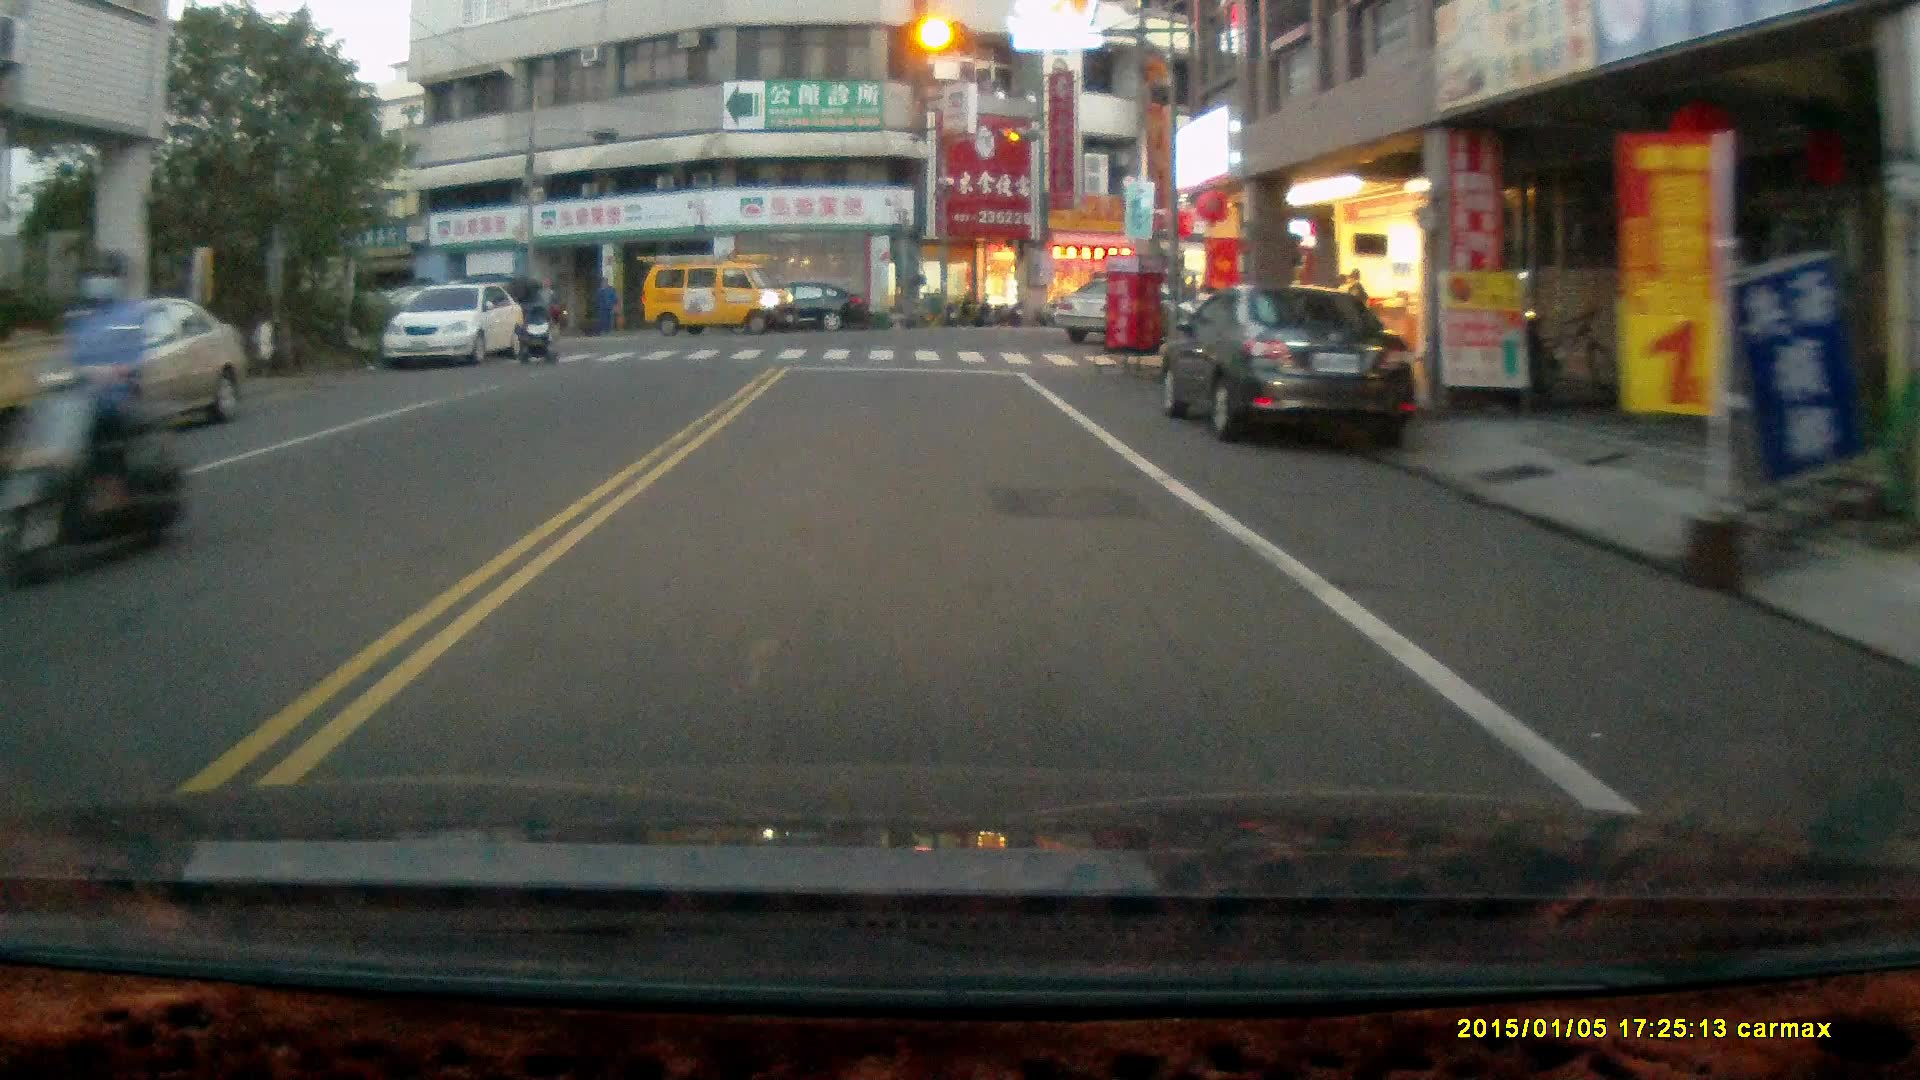pedestrian: (534, 273, 558, 345), (595, 274, 617, 336)
rider: (0, 250, 188, 597), (513, 300, 563, 367)
vehicle: (1159, 286, 1422, 452), (14, 296, 237, 448), (642, 251, 799, 335), (388, 288, 526, 374), (1048, 276, 1206, 351), (747, 283, 869, 334)
